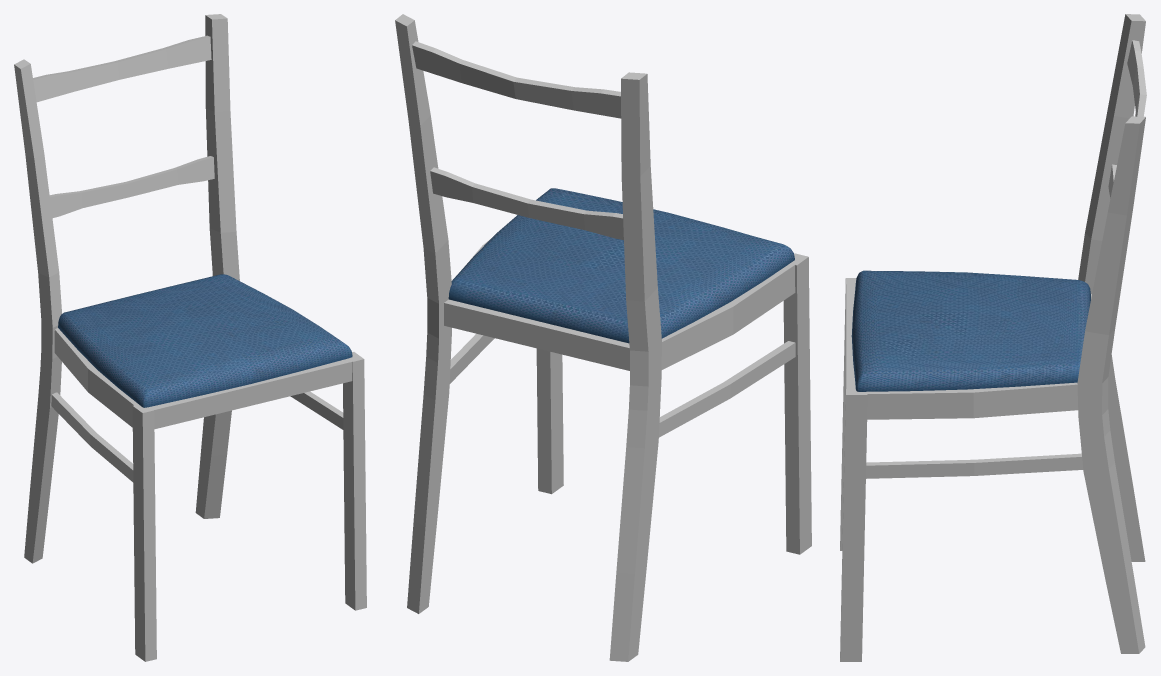
Rendered from Chair_03_new.fbx.
3 views of the same model, side by side, from view 1: azimuth 30°, elevation 25°; view 2: azimuth 150°, elevation 25°; view 3: azimuth 270°, elevation 25° (orthographic). The views are drawn at different scales.
Parts seen in each view (by area): view 1: Plane_Plane.001; view 2: Plane_Plane.001; view 3: Plane_Plane.001.
Boxes of the visible parts, bbox=[...] form: Plane_Plane.001: bbox=[14, 14, 366, 661]; Plane_Plane.001: bbox=[395, 14, 811, 661]; Plane_Plane.001: bbox=[840, 14, 1146, 661].
Bounding box in the file's own units: 205 × 439 × 228.
